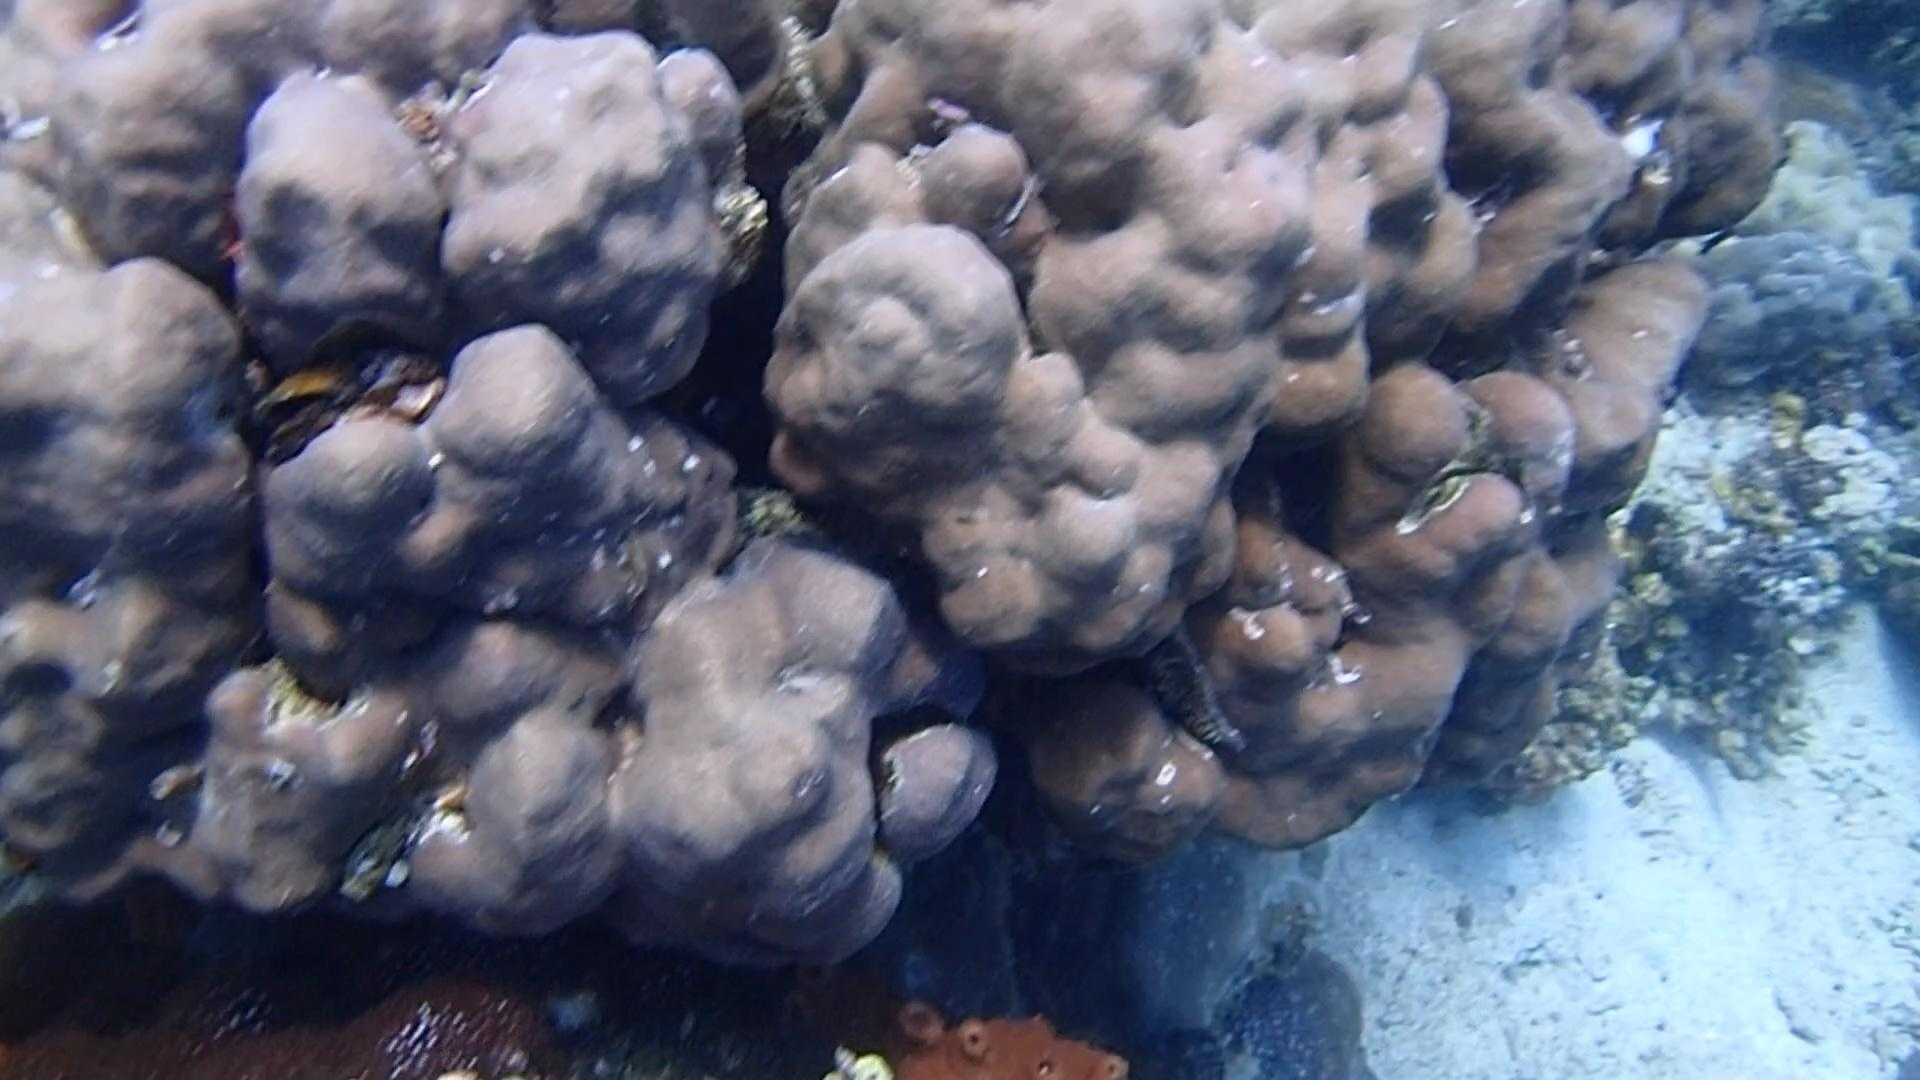Dark Fish: (1696, 219, 1741, 262)
